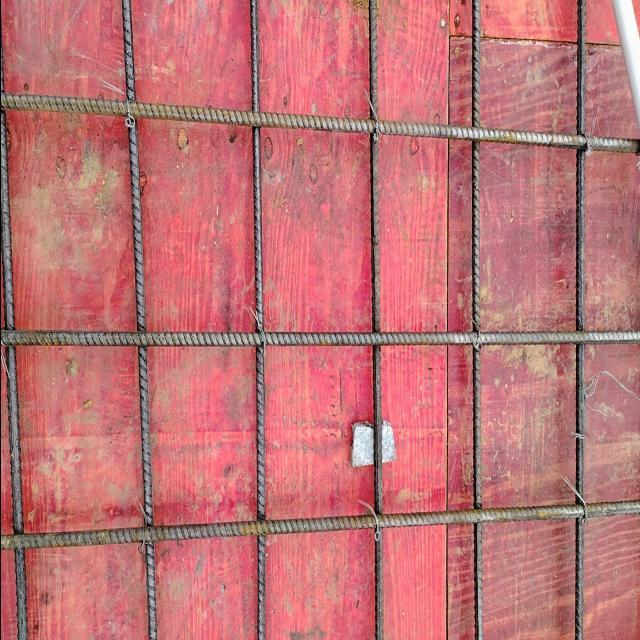ribbed bar: (1, 91, 640, 155), (1, 497, 640, 551), (119, 0, 157, 639), (1, 51, 27, 639), (1, 324, 640, 346), (247, 0, 267, 639), (366, 0, 384, 639), (574, 0, 588, 639), (470, 0, 484, 639)
